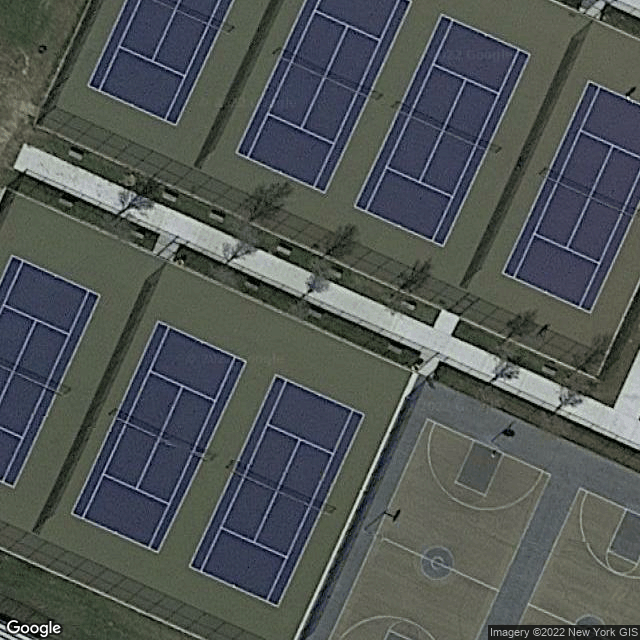Court: (353, 12, 533, 248), (187, 372, 366, 608), (70, 321, 249, 554), (236, 0, 412, 194), (501, 81, 640, 312), (0, 254, 101, 489), (86, 0, 234, 127)
